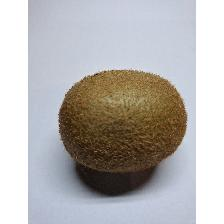Kiwi: (59, 65, 191, 175)
